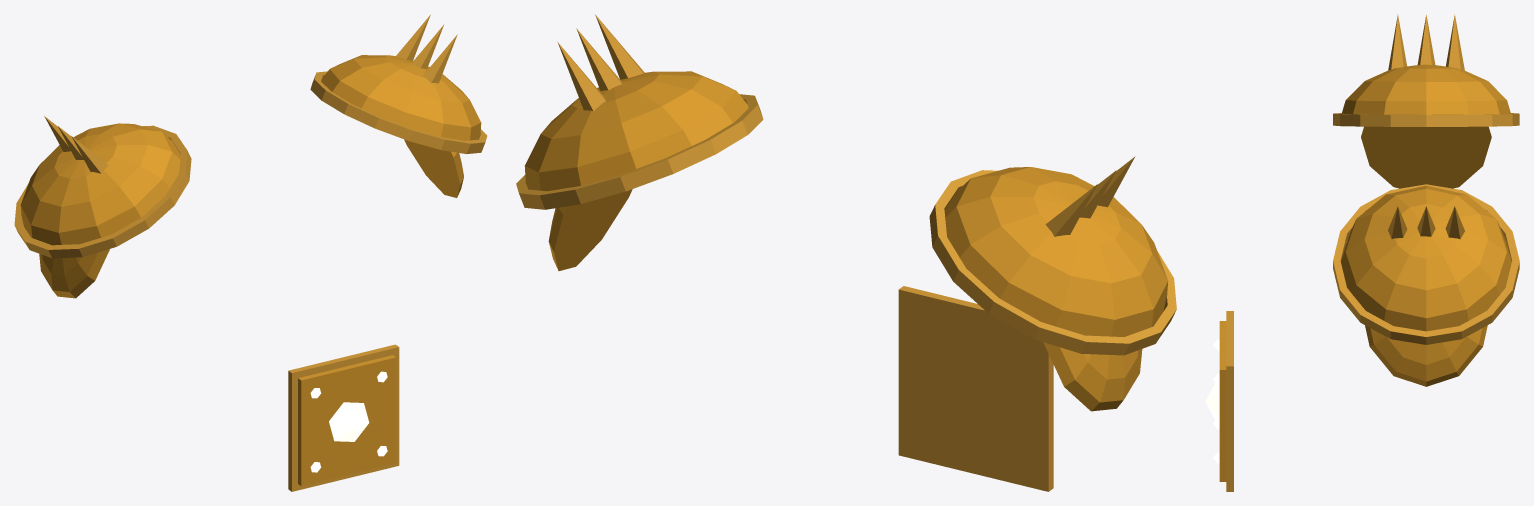
Rendered from armor_knight_chest_legendary_human.glb.
The picture shows the model from 3 angles, left to right: view 1: azimuth 30°, elevation 25°; view 2: azimuth 150°, elevation 25°; view 3: azimuth 270°, elevation 25°; orthographic projection. The views are drawn at different scales.
Parts seen in each view (by area): view 1: armor_knight_chest_legendary_human__clavicle_r, armor_knight_chest_legendary_human__clavicle_l, armor_knight_chest_legendary_human__spine_03; view 2: armor_knight_chest_legendary_human__clavicle_r, armor_knight_chest_legendary_human__clavicle_l, armor_knight_chest_legendary_human__spine_03; view 3: armor_knight_chest_legendary_human__clavicle_l, armor_knight_chest_legendary_human__clavicle_r, armor_knight_chest_legendary_human__spine_03.
Part boxes in pixels (<box>): armor_knight_chest_legendary_human__clavicle_r: <box>14,116,191,298</box>; armor_knight_chest_legendary_human__clavicle_l: <box>310,14,487,197</box>; armor_knight_chest_legendary_human__spine_03: <box>288,344,399,491</box>; armor_knight_chest_legendary_human__clavicle_r: <box>929,156,1176,411</box>; armor_knight_chest_legendary_human__clavicle_l: <box>516,14,763,270</box>; armor_knight_chest_legendary_human__spine_03: <box>898,286,1053,491</box>; armor_knight_chest_legendary_human__clavicle_l: <box>1333,184,1519,386</box>; armor_knight_chest_legendary_human__clavicle_r: <box>1333,14,1519,188</box>; armor_knight_chest_legendary_human__spine_03: <box>1205,311,1233,491</box>.
Size of the model in its own units: 73.09 by 52.47 by 41.76.
